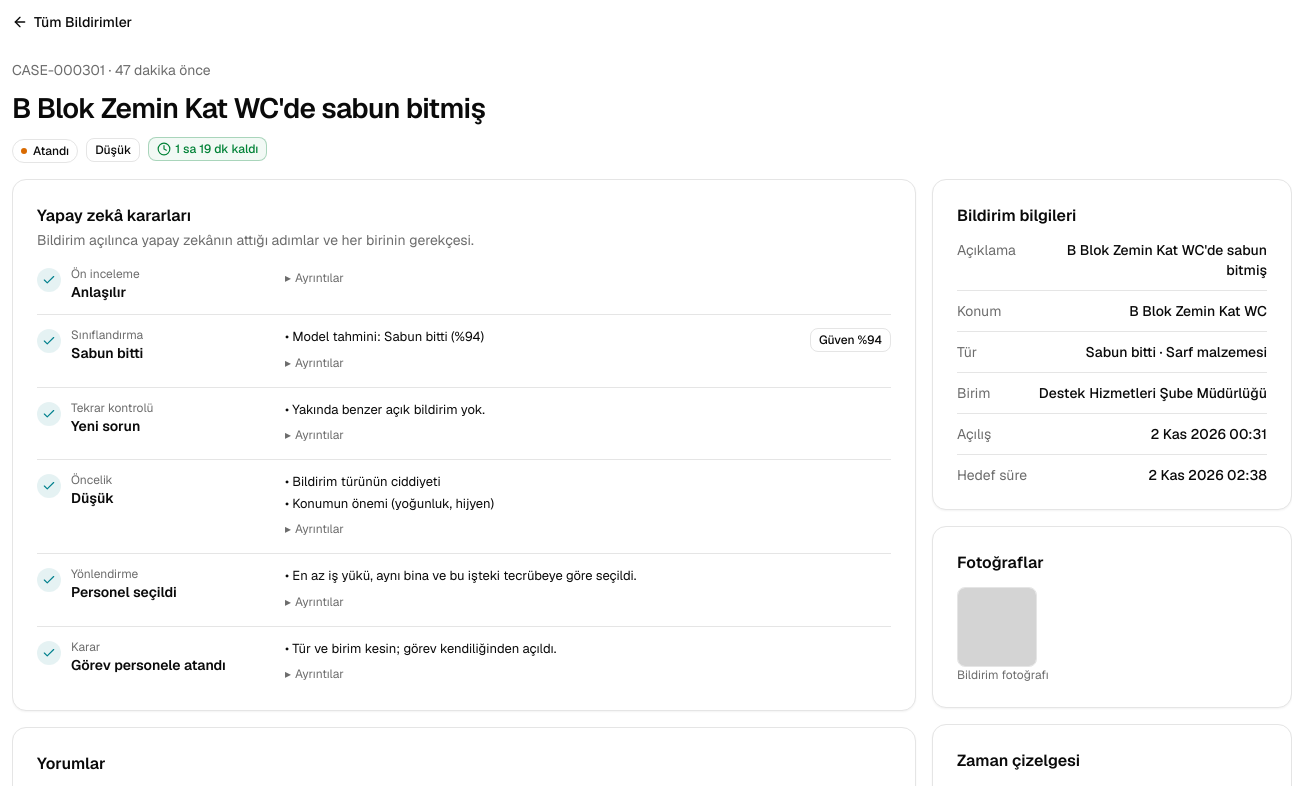
Test: ManagerCaseDetail › keeps reason weights and the model name under Ayrıntılar
Check: the list named "Gerekçeler" shows "Bildirim türünün ciddiyeti", box [292, 473, 441, 490]
Check: the list named "Gerekçeler" does not show "+8", box [285, 473, 494, 512]
Click the heading "▸ Ayrıntılar" below "Konumun önemi (yoğunluk, hijyen)".
click(314, 529)  # box [285, 517, 344, 541]
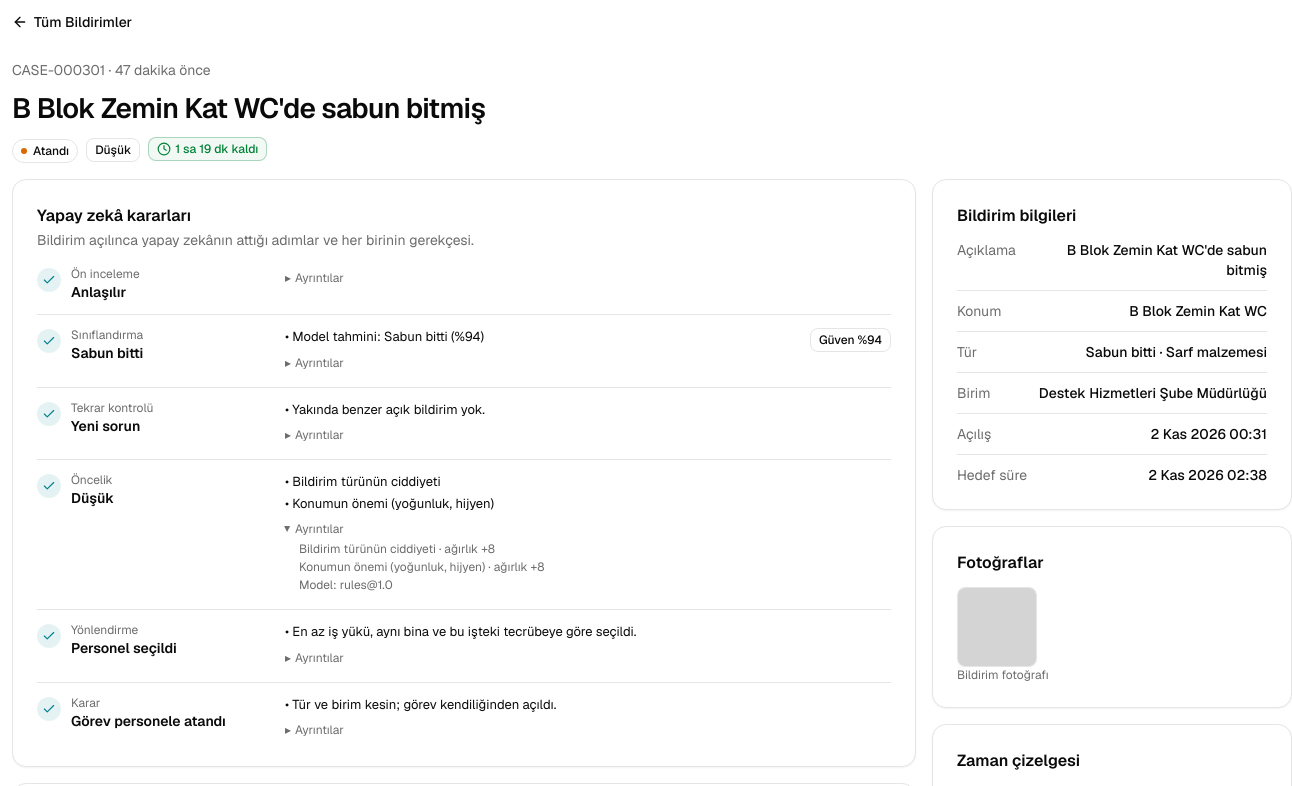
Check: the list item "Bildirim türünün ciddiyeti · ağırlık +8" is shown, box [299, 541, 495, 557]
Check: the list item "Model: rules@1.0" is shown, box [299, 577, 393, 593]
